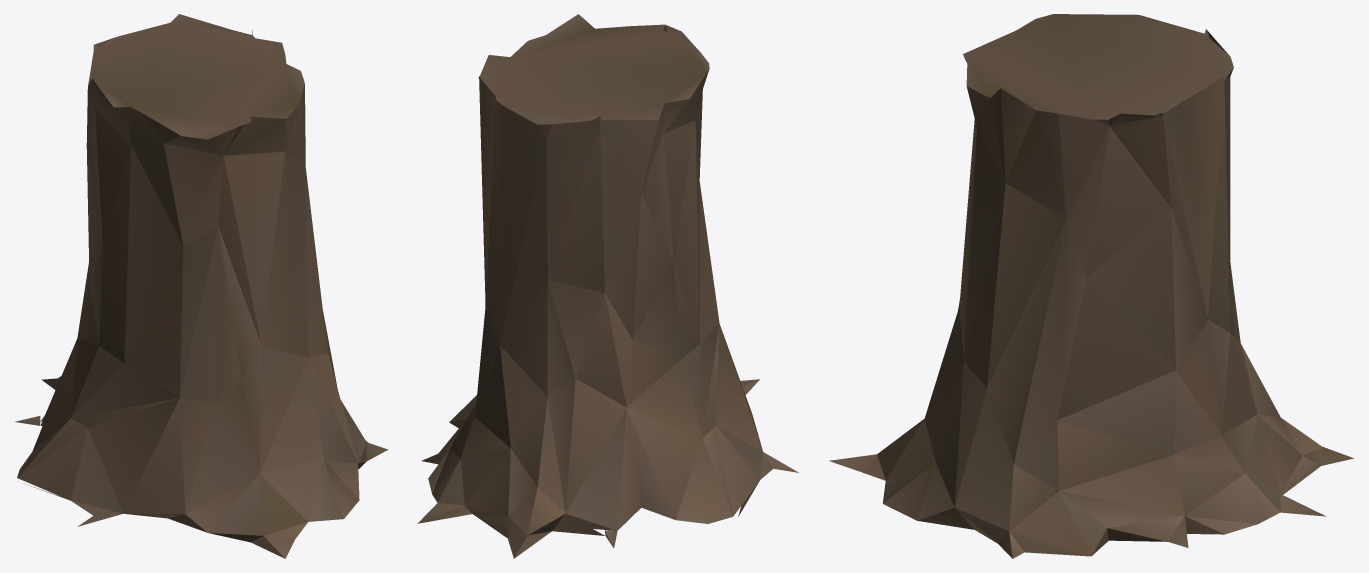
The model's file is spruce_stump.glb.
3 renders of one model, left to right at view 1: azimuth 30°, elevation 25°; view 2: azimuth 150°, elevation 25°; view 3: azimuth 270°, elevation 25°, orthographic. The views are drawn at different scales.
Parts seen in each view (by area): view 1: Stump; view 2: Stump; view 3: Stump.
Part boxes in pixels (left/top/right/bottom): Stump: left=15, top=14, right=388, bottom=558; Stump: left=417, top=14, right=798, bottom=558; Stump: left=829, top=14, right=1354, bottom=558.
Bounding box in the file's own units: 0.6015 × 0.7286 × 0.8096.
